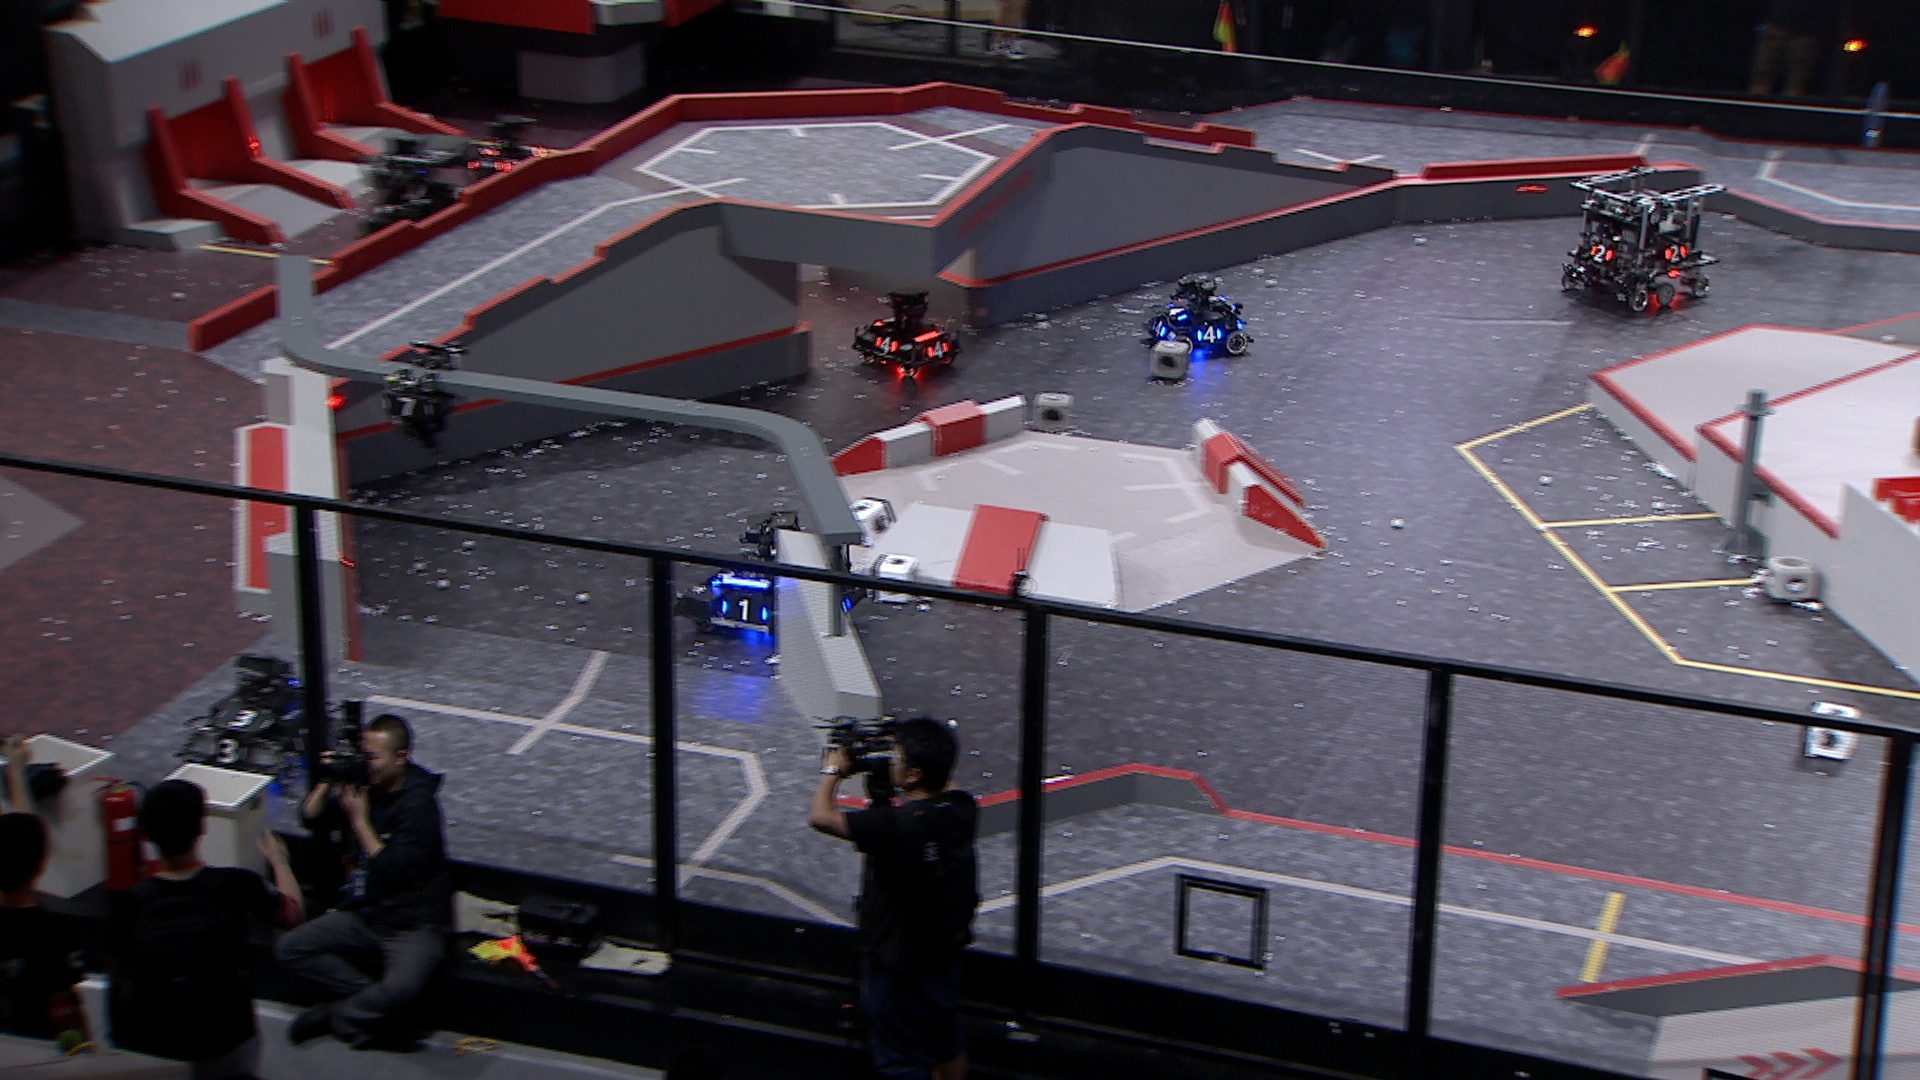armor: (215, 703, 276, 732), (717, 597, 771, 624), (378, 394, 433, 419), (207, 736, 251, 765), (1195, 323, 1225, 347), (708, 564, 735, 589), (926, 339, 951, 361), (1164, 302, 1191, 323), (873, 334, 901, 353), (1662, 243, 1689, 262), (1589, 243, 1614, 264), (1149, 316, 1168, 338), (872, 314, 897, 327)
car: (1557, 158, 1731, 314), (679, 509, 866, 647), (173, 650, 345, 785), (348, 133, 481, 258), (847, 284, 964, 380), (1138, 268, 1258, 360), (462, 112, 568, 200)
watcher: (373, 338, 469, 458)
